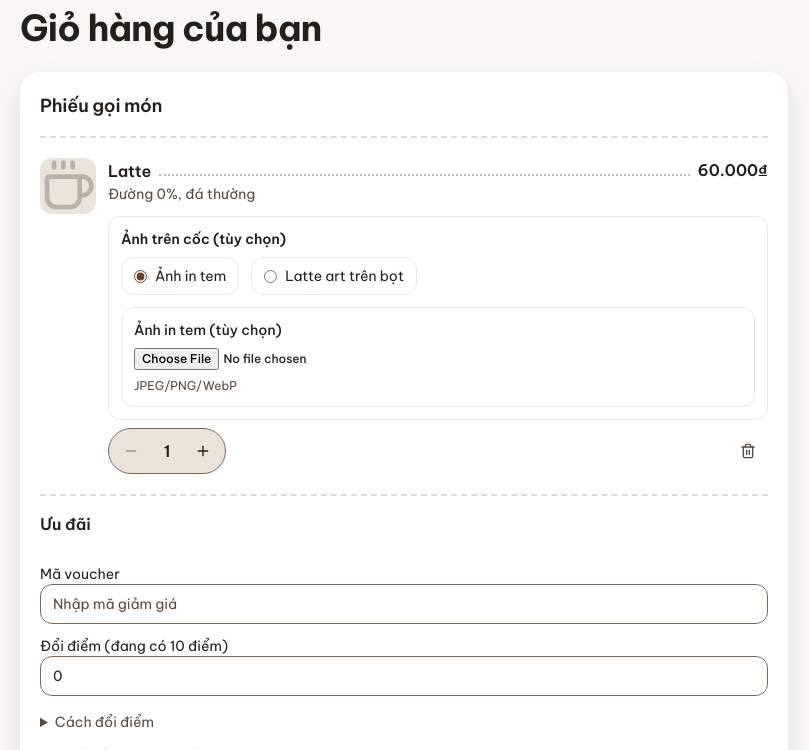
Test: members and promotions UI › shows a friendly 429 cooldown, keeps selections and permits a manual retry after Retry-After
The image size is (809, 750).
Expected: the number field named "Điểm muốn đổi" is shown, [40,656,768,696]
Type "SAVE10" into the field labelled "Mã voucher" at (404, 604), box [40,584,768,624]
(page scrolled)
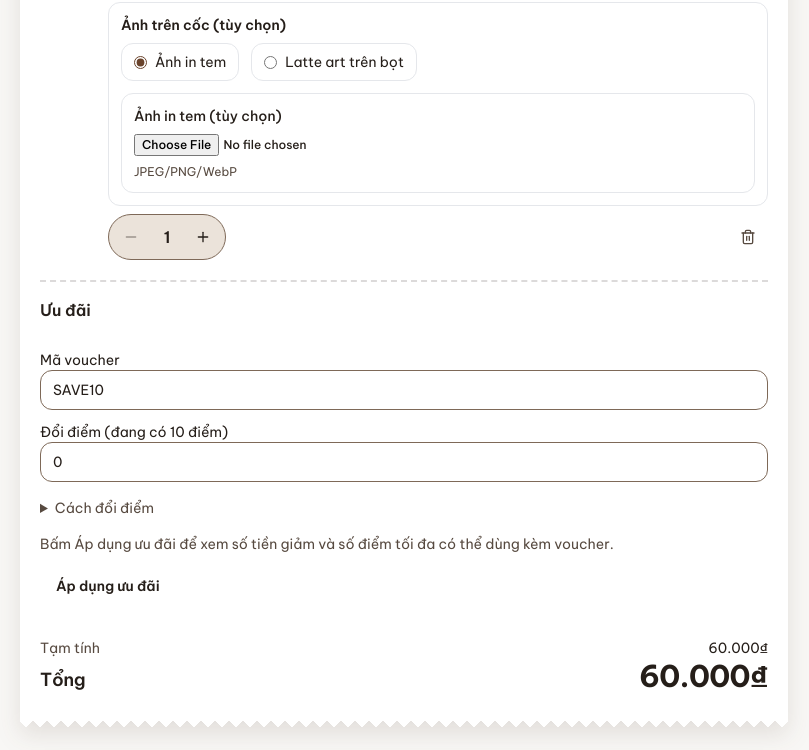
Click the button "Áp dụng ưu đãi" at (108, 586), box [40,566,176,606]
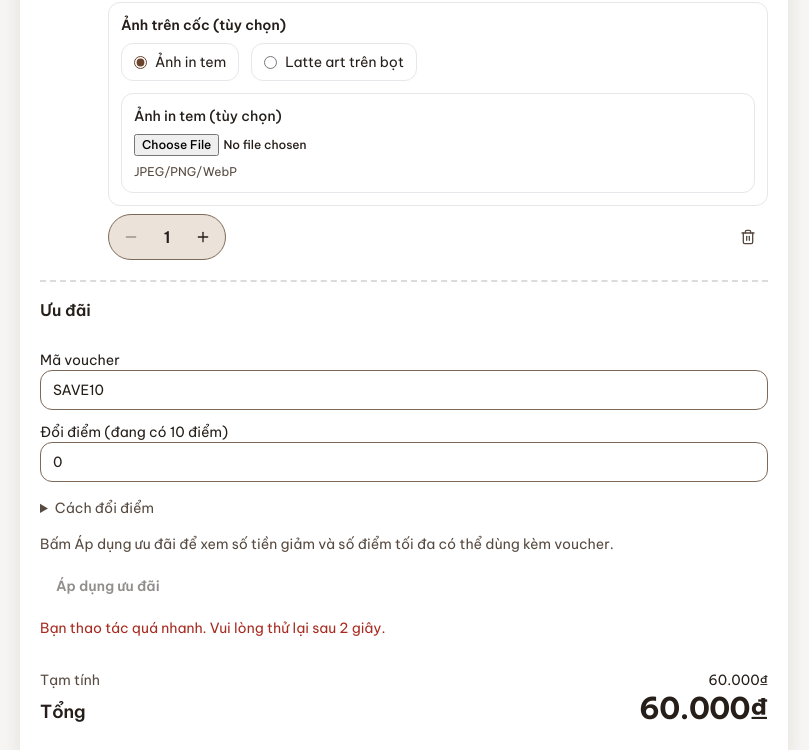
Result: the text "Bạn thao tác quá nhanh. Vui lòng thử lại sau 2 giây." is shown at [40,619,385,637]
Result: the button "Áp dụng ưu đãi" is disabled
Click the button "Áp dụng ưu đãi" at (108, 586), box [40,566,176,606]
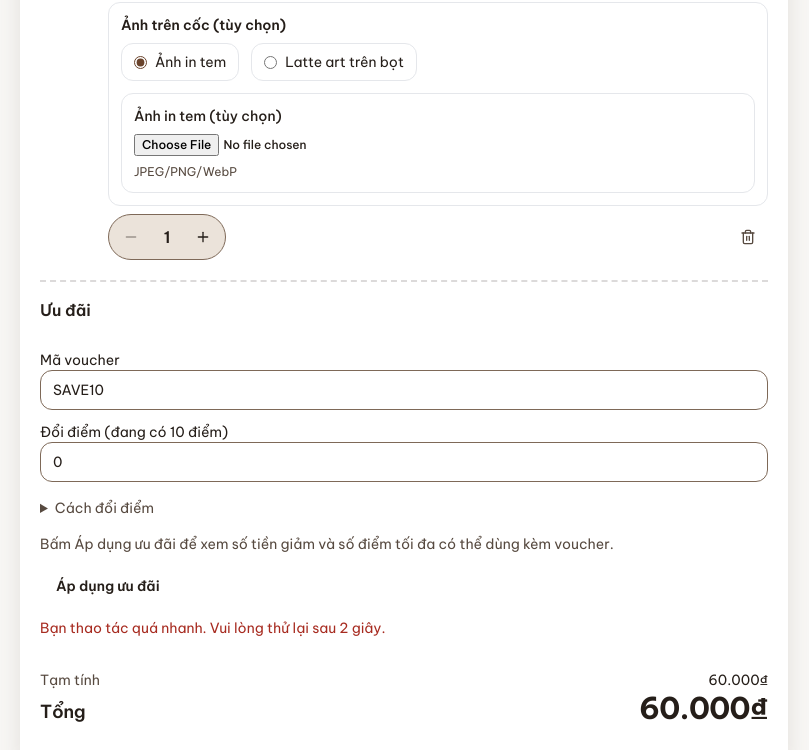
Result: the button "Áp dụng ưu đãi" is enabled
Click the button "Áp dụng ưu đãi" at (108, 586), box [40,566,176,606]
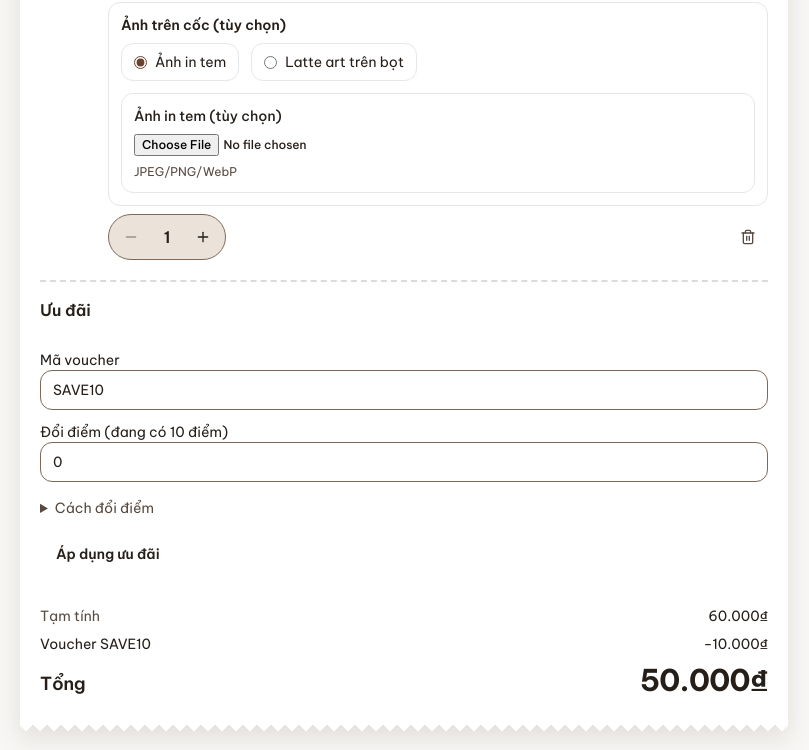
Result: the text "Voucher SAVE10" is shown at [40,634,151,654]
